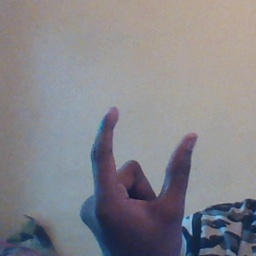U: (80, 103, 201, 256)
